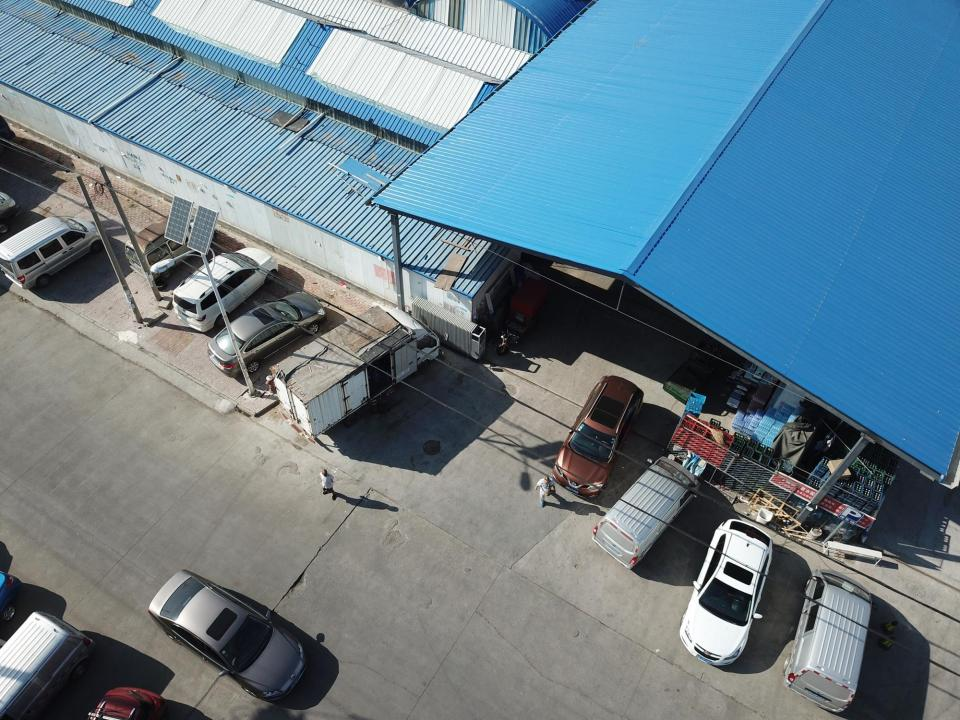car: (147, 570, 308, 702), (680, 517, 774, 665), (553, 374, 644, 498), (207, 292, 327, 377), (172, 247, 279, 332)
truck: (270, 304, 441, 442)
van: (784, 568, 874, 712), (592, 456, 700, 569), (0, 612, 99, 720), (0, 216, 103, 289), (125, 212, 220, 280)
